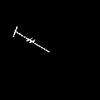treble_crochet: (13, 27, 48, 51)
